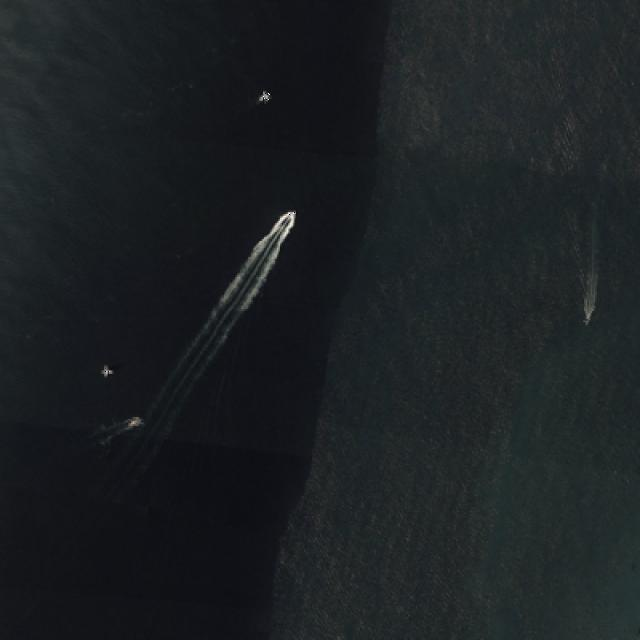boat: (126, 417, 144, 426), (101, 366, 112, 376), (260, 92, 270, 102), (288, 210, 296, 220), (583, 319, 588, 323)
